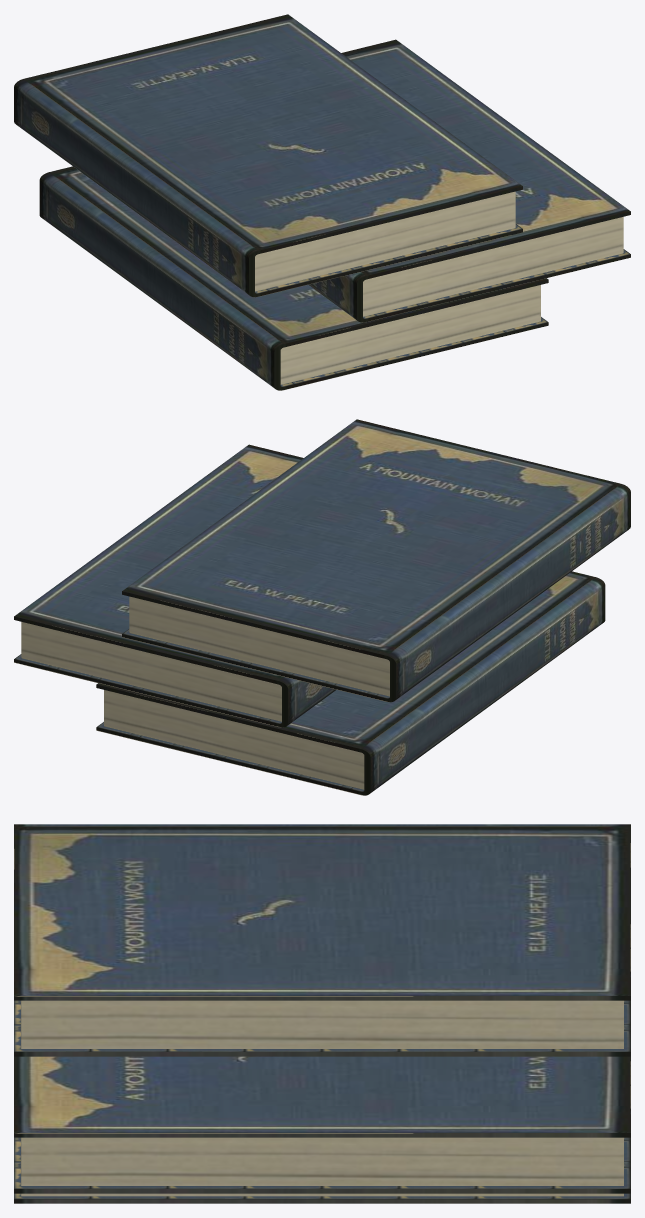
Rendered from Book 2.fbx.
The picture shows the model from 3 angles, top to bottom: view 1: azimuth 30°, elevation 25°; view 2: azimuth 150°, elevation 25°; view 3: azimuth 270°, elevation 25°; orthographic projection. The views are drawn at different scales.
Visible parts, largest first — view 1: Book_1; view 2: Book_1; view 3: Book_1.
Boxes of the visible parts, <box> form: Book_1: <box>14,14,630,390</box>; Book_1: <box>14,419,630,795</box>; Book_1: <box>14,824,630,1203</box>.
Bounding box in the file's own units: 1.35 × 0.4912 × 1.44.
Materials: 1 (1 with a texture image).
